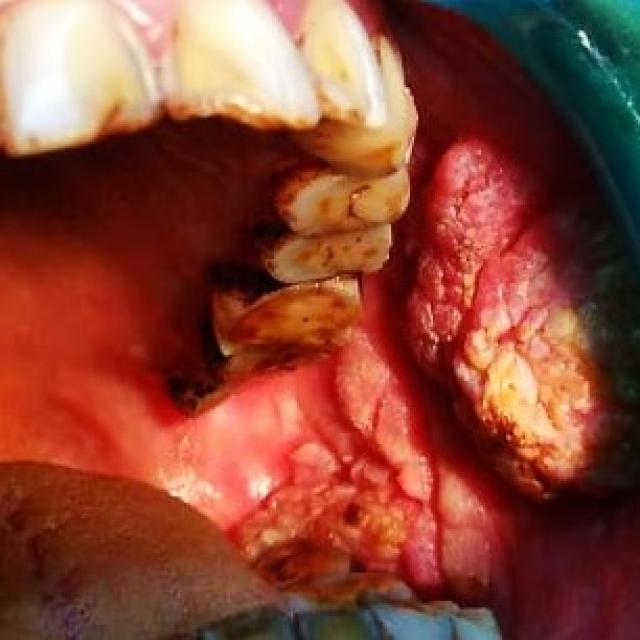Cancer: (412, 151, 633, 497), (252, 418, 488, 597)
